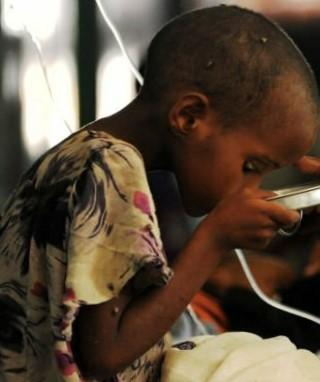Stunting: (94, 0, 320, 242)
